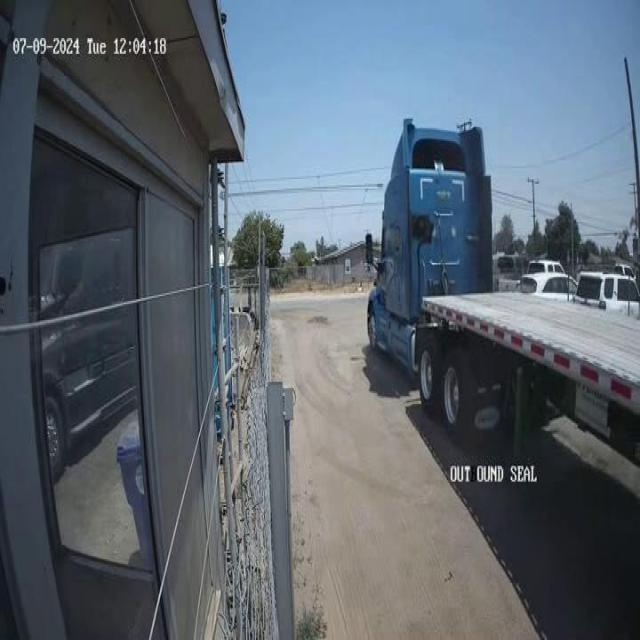BOBTAIL: (362, 115, 640, 464)
